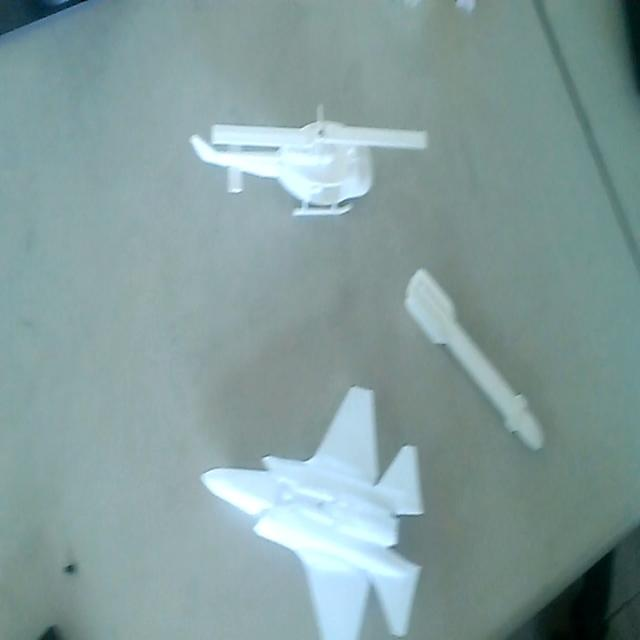Helicopter: (186, 100, 431, 223)
Jet: (196, 373, 425, 640)
Rocket: (404, 261, 550, 460)
